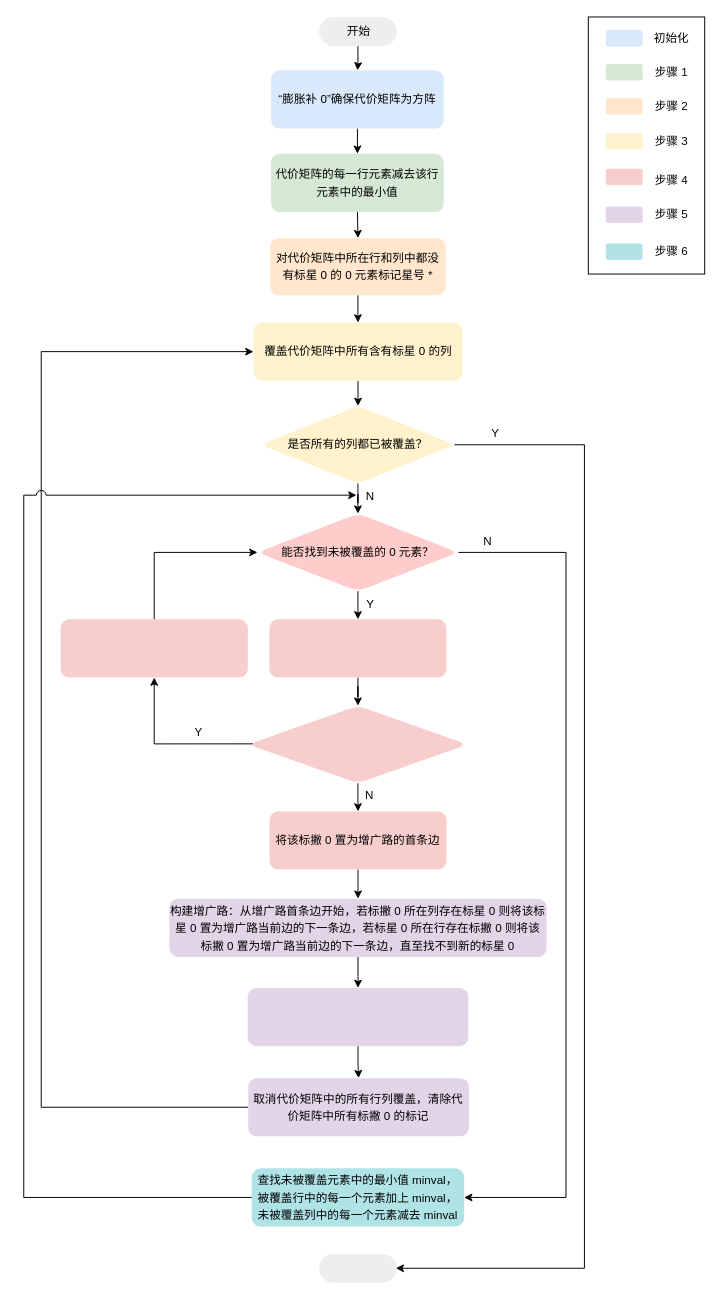
This 722x1300 diagram has some shape labels left out. Each missing label, with the centre of its shape:
"增广操作：取消增广路中标星 0 的标记，并将增广路中的标撇 0 重新标记为标星 0" belongs at point 357,1016.
"对未被覆盖的 0 元素标记撇号 '" belongs at point 357,648.
"标撇 0 所在的行是否含有标星 0？" belongs at point 357,744.
"结束" belongs at point 357,1267.
"覆盖标撇 0 所在的行，取消覆盖标撇 0 所在行里的标星 0 所在的列" belongs at point 153,648.
